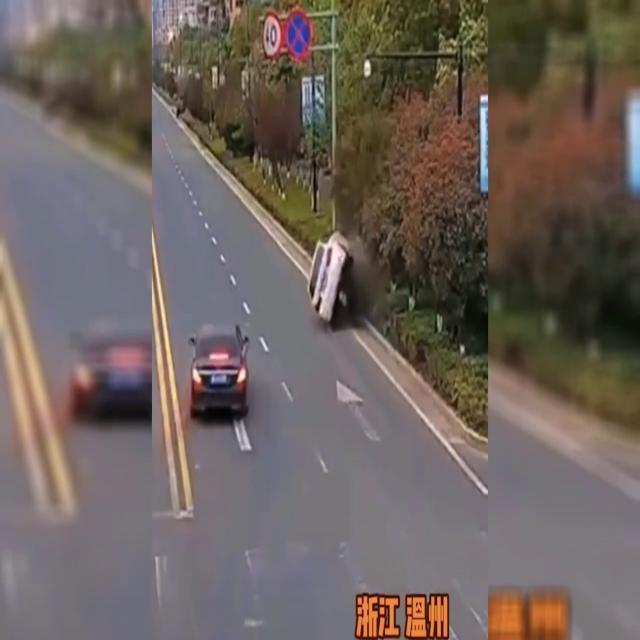accident: (303, 188, 387, 332)
